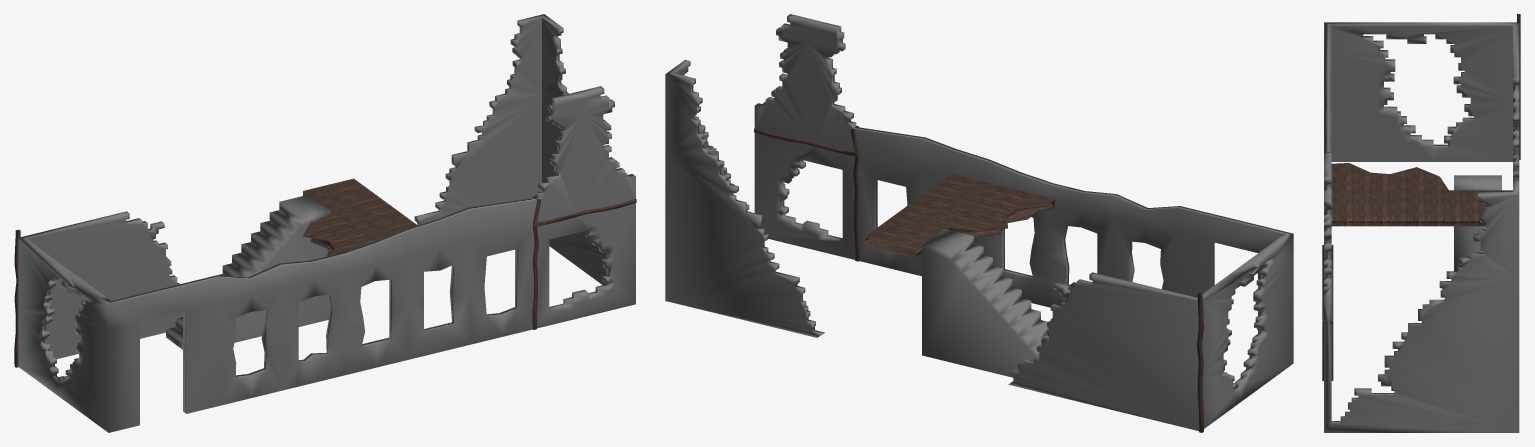
Rendered from Ruins12_lod0.fbx.
3 views of the same model, side by side, from view 1: azimuth 30°, elevation 25°; view 2: azimuth 150°, elevation 25°; view 3: azimuth 270°, elevation 25° (orthographic). The views are drawn at different scales.
Visible parts, largest first — view 1: Default_Layer; view 2: Default_Layer; view 3: Default_Layer.
Part boxes in pixels (x1=…): Default_Layer: x1=14, y1=14, x2=636, y2=432; Default_Layer: x1=665, y1=14, x2=1293, y2=432; Default_Layer: x1=1322, y1=14, x2=1520, y2=432.
Bounding box in the file's own units: 1685 × 680 × 512.
